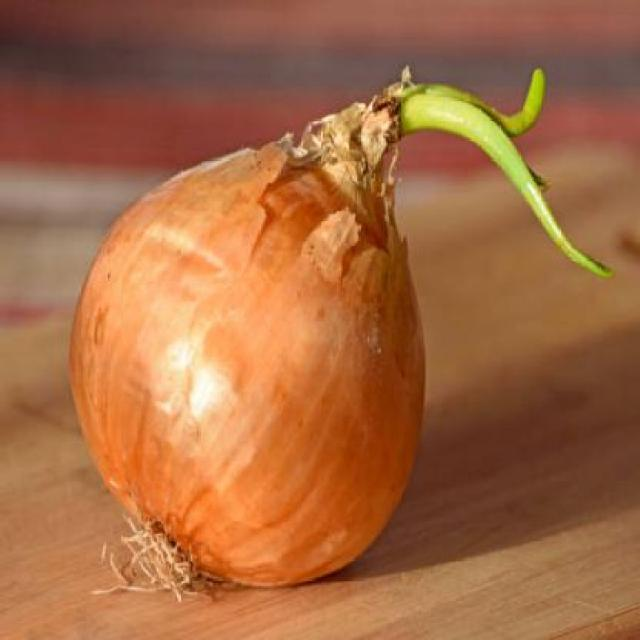Onion: (69, 69, 425, 600)
